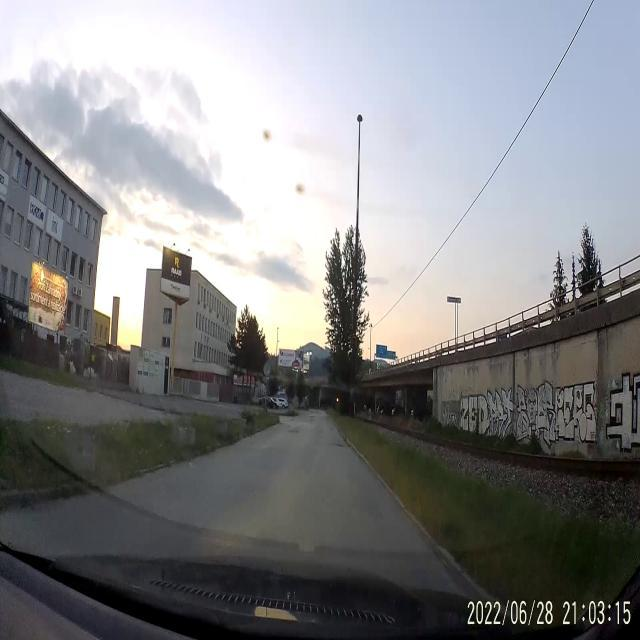Pothole: (327, 440, 349, 451), (285, 427, 302, 435)
